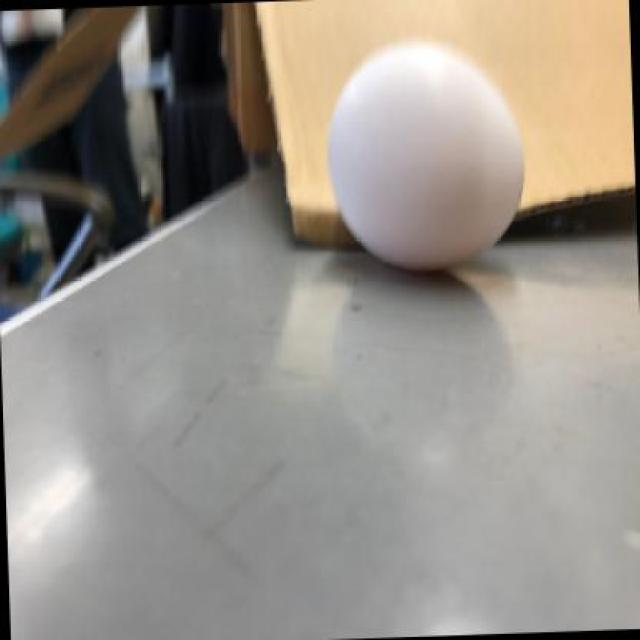egg: (343, 18, 541, 283)
